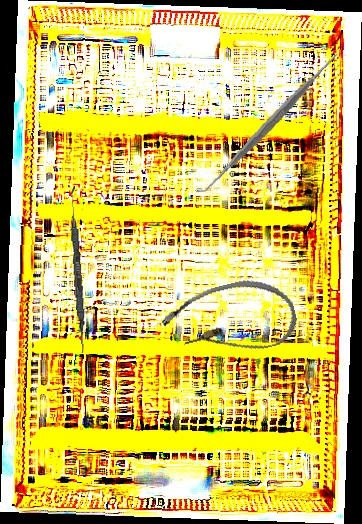Cannula: (157, 270, 302, 371)
Spatula Surgical: (194, 44, 347, 202), (65, 185, 90, 354)
